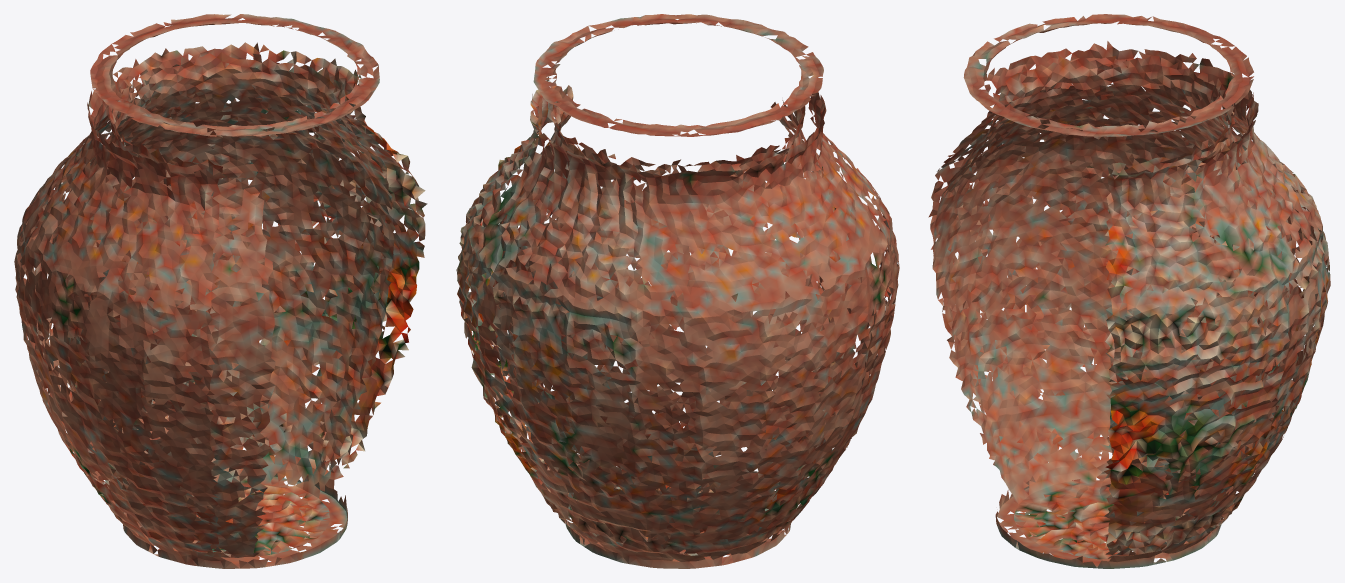
File: vase2_final1000.obj
3 views of the same model, side by side, from view 1: azimuth 30°, elevation 25°; view 2: azimuth 150°, elevation 25°; view 3: azimuth 270°, elevation 25° (orthographic).
Size of the model in its own units: 1.52 by 1.69 by 1.38.
